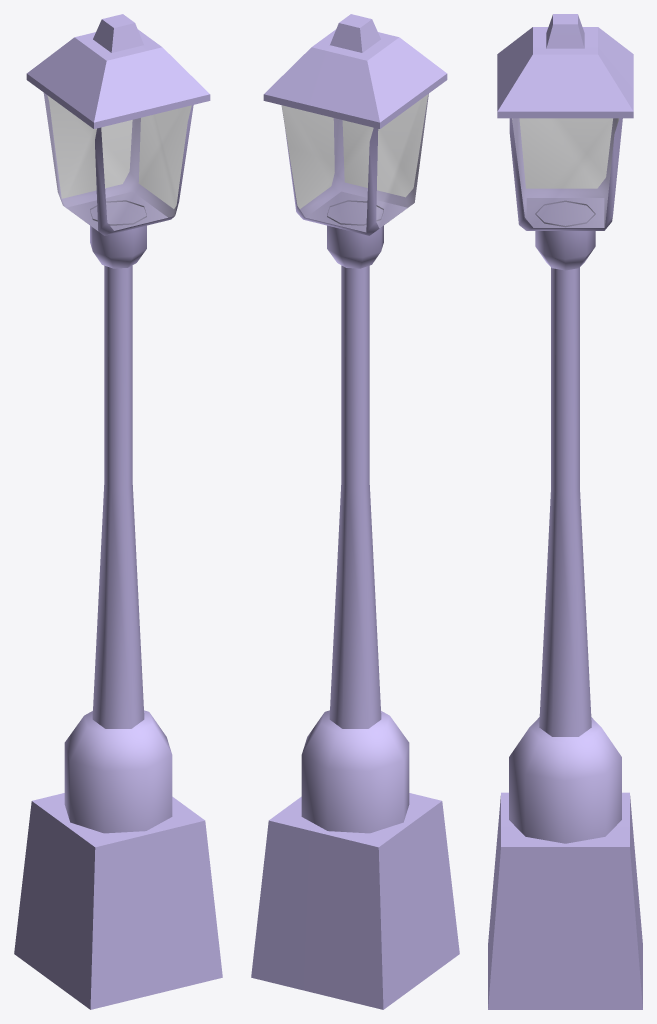
File: lamparalila.obj
The picture shows the model from 3 angles, left to right: view 1: azimuth 30°, elevation 25°; view 2: azimuth 150°, elevation 25°; view 3: azimuth 270°, elevation 25°; orthographic projection.
Parts seen in each view (by area): view 1: ParkLamp_Untitled.189; view 2: ParkLamp_Untitled.189; view 3: ParkLamp_Untitled.189.
Part boxes in pixels (x1,y1,x2,y2): ParkLamp_Untitled.189: [14, 14, 222, 1009]; ParkLamp_Untitled.189: [251, 14, 459, 1009]; ParkLamp_Untitled.189: [488, 14, 642, 1009].
Bounding box in the file's own units: 0.4831 × 3.3 × 0.4831.
2 materials, 1 textured.
